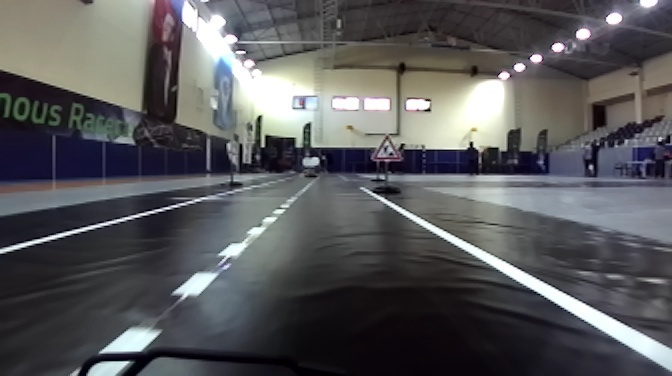yol_yapimi: (371, 131, 402, 163)
